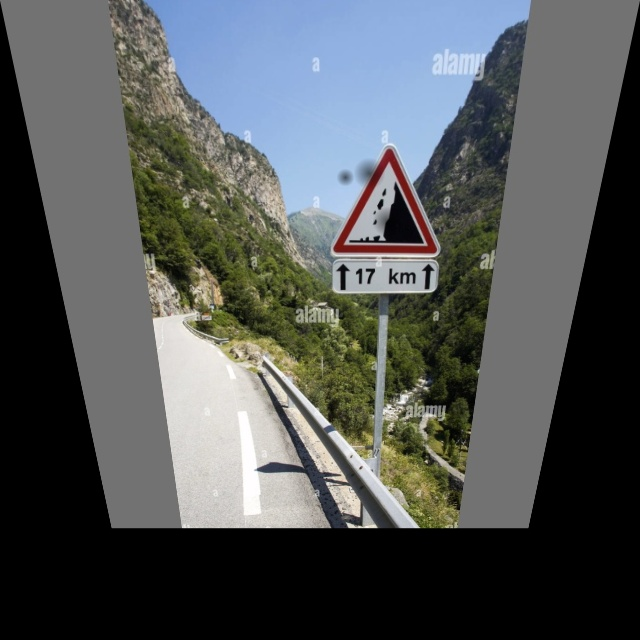Falling_Rocks: (333, 145, 446, 255)
